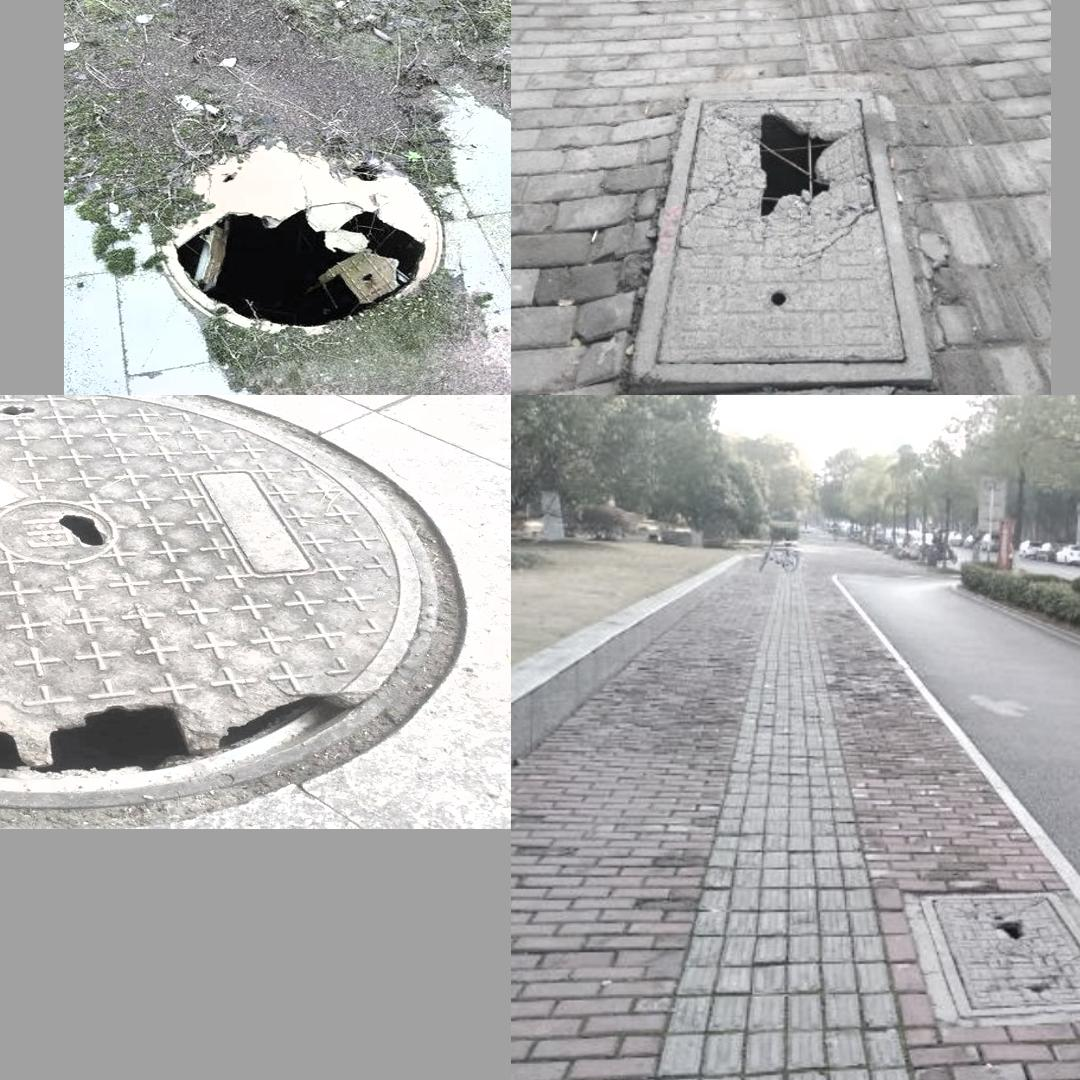broke: (0, 396, 438, 811), (629, 85, 934, 384), (130, 135, 473, 342), (917, 889, 1080, 1018)
